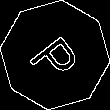P_NE: (24, 25, 86, 85)
